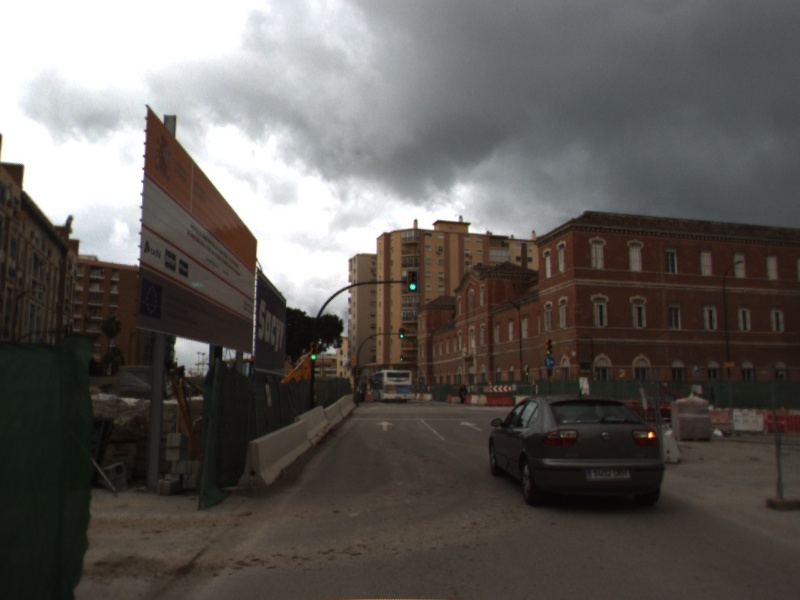STRAIGHT: (458, 419, 486, 433), (374, 419, 397, 433)
